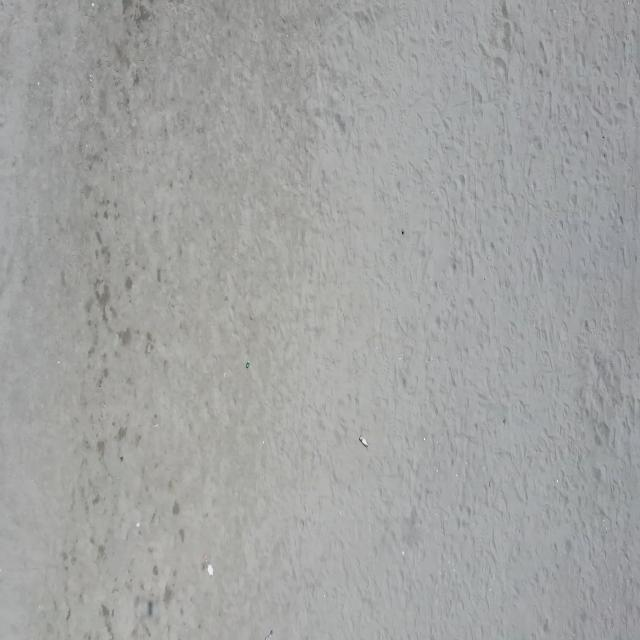glass: (204, 553, 214, 577), (359, 435, 369, 448)
